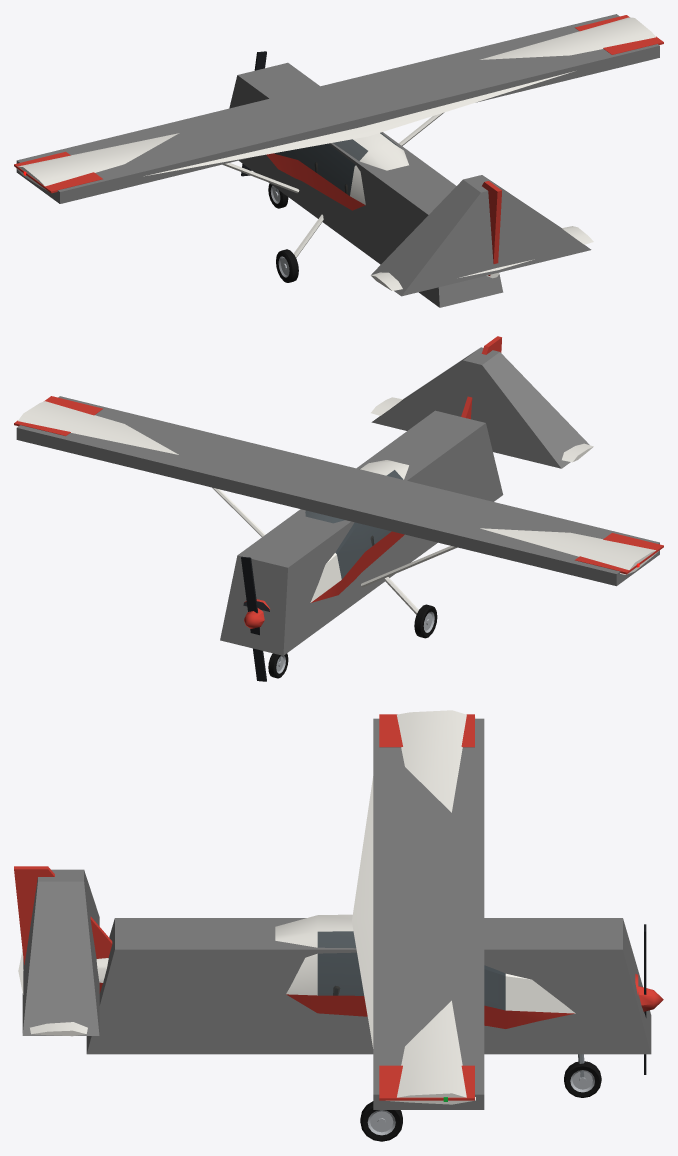
3 renders of one model, top to bottom at view 1: azimuth 30°, elevation 25°; view 2: azimuth 150°, elevation 25°; view 3: azimuth 270°, elevation 25°, orthographic. The views are drawn at different scales.
Parts seen in each view (by area): view 1: plane, plane_Body, plane_Wheel_L; view 2: plane, plane_Body, plane_Propeller, plane_Wheel_L; view 3: plane, plane_Body, plane_Wheel_R, plane_Wheel_N, plane_Propeller.
Boxes of the visible parts, <box> form: plane: <box>16,14,659,307</box>; plane_Body: <box>14,15,663,290</box>; plane_Wheel_L: <box>276,249,298,282</box>; plane: <box>16,347,659,655</box>; plane_Body: <box>14,336,663,661</box>; plane_Propeller: <box>241,556,266,681</box>; plane_Wheel_L: <box>414,604,437,638</box>; plane: <box>22,718,651,1109</box>; plane_Body: <box>14,710,638,1104</box>; plane_Wheel_R: <box>360,1101,402,1141</box>; plane_Wheel_N: <box>564,1061,601,1097</box>; plane_Propeller: <box>638,924,663,1074</box>.
Size of what is drawn, in the model's own units: 10.65 by 2.95 by 7.6.
